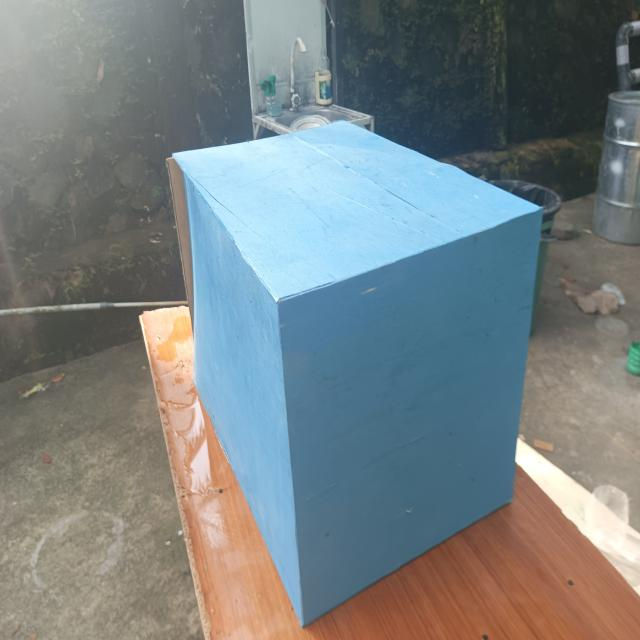blue_box: (163, 118, 532, 616)
